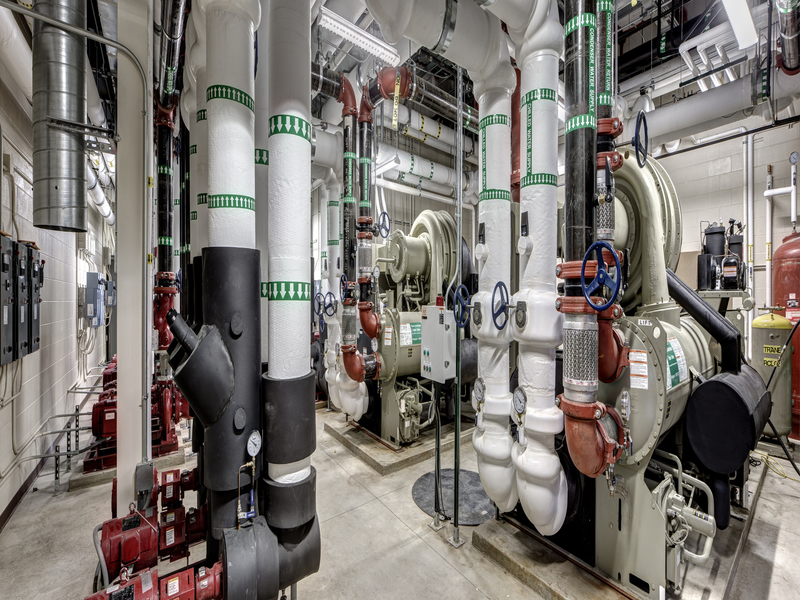valve: (230, 509, 260, 521)
